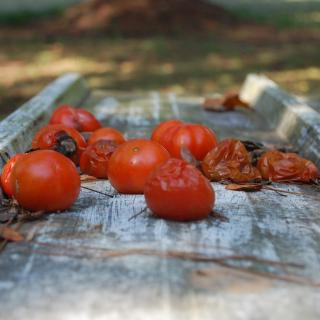tomato: (141, 156, 220, 222), (7, 150, 79, 212), (107, 135, 171, 192), (32, 124, 88, 174), (160, 124, 218, 156), (0, 154, 26, 197), (152, 118, 182, 151), (87, 126, 127, 146)
